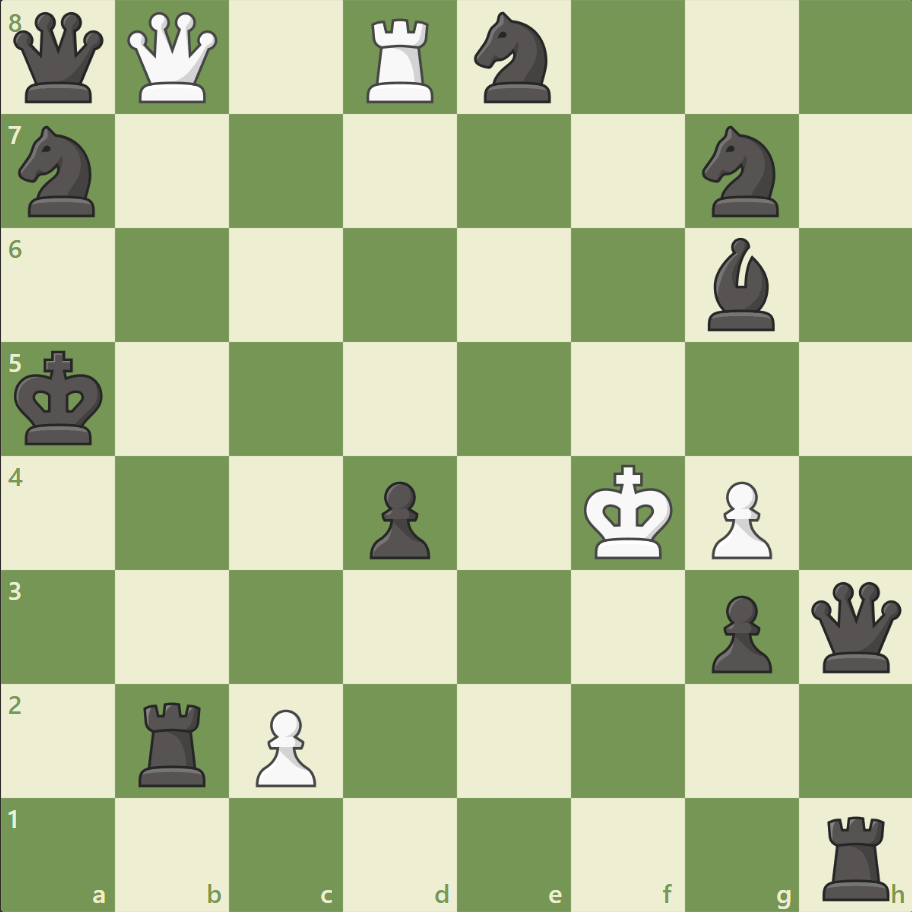K: (579, 458, 679, 566)
P: (701, 473, 776, 564), (247, 700, 322, 791)
Q: (124, 9, 223, 108)
R: (360, 12, 442, 109)
b: (698, 233, 782, 336)
k: (11, 344, 111, 452)
n: (465, 7, 562, 110), (11, 121, 108, 223), (692, 121, 789, 223)
p: (701, 586, 776, 677), (361, 473, 435, 564)
q: (805, 576, 904, 676), (10, 9, 109, 108)
r: (814, 806, 897, 904), (133, 693, 215, 790)
